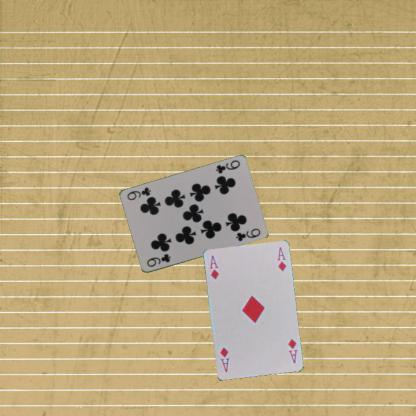9c: (213, 158, 241, 175), (144, 251, 171, 268)
Ad: (206, 252, 220, 281), (285, 336, 299, 365)
